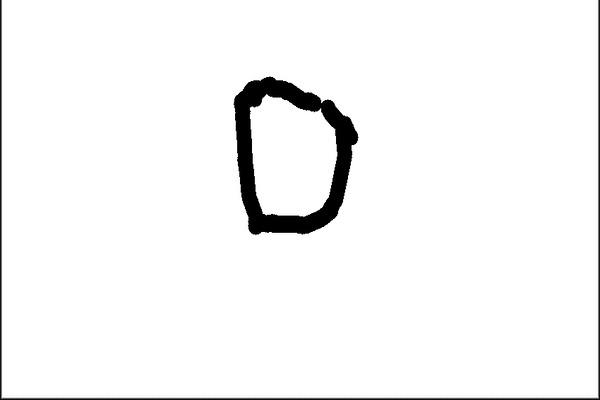D: (228, 72, 363, 240)
